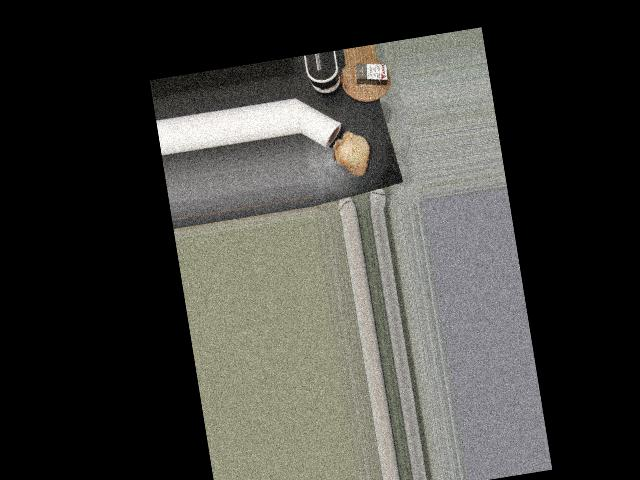onion: (334, 128, 375, 176)
